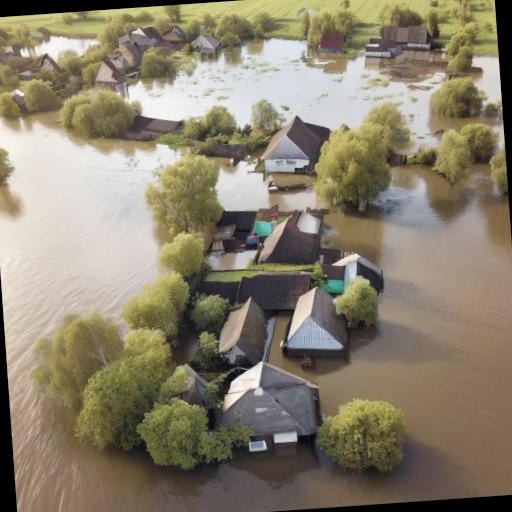flood: (0, 110, 512, 512), (127, 38, 505, 151), (214, 159, 318, 210), (17, 36, 93, 58), (207, 250, 257, 270)
house: (222, 357, 321, 455), (256, 110, 332, 186), (282, 284, 348, 360), (252, 210, 327, 268), (238, 266, 314, 312), (326, 249, 388, 301), (216, 298, 267, 358), (207, 207, 269, 254), (364, 20, 434, 60), (126, 112, 185, 144), (310, 28, 350, 60), (90, 58, 130, 89), (194, 29, 224, 55), (130, 26, 162, 48), (162, 26, 186, 44)
